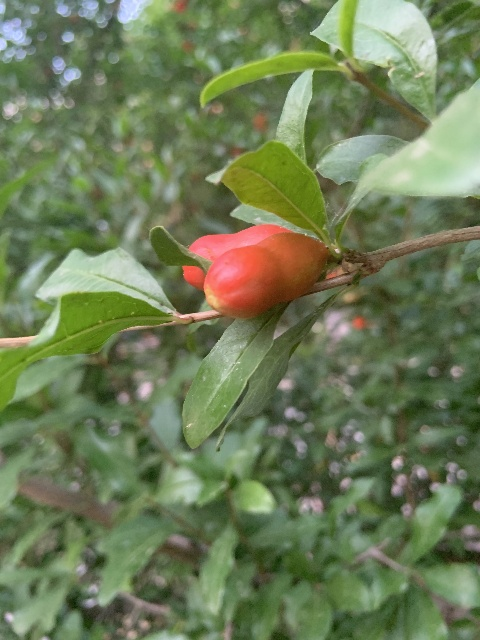bud: (203, 232, 326, 320), (183, 223, 293, 286)
